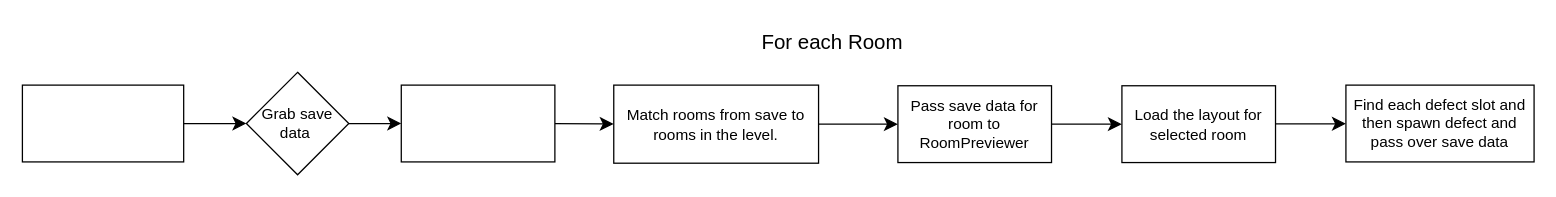
Some shapes in this 1556 by 197 pixel diagram are drawn without their labels. Each missing label, with the centre of its shape:
"AHouseManager setup from save" goes at pixel 477 123.
"PlayableGameMode :: BeginPlay" goes at pixel 102 123.
